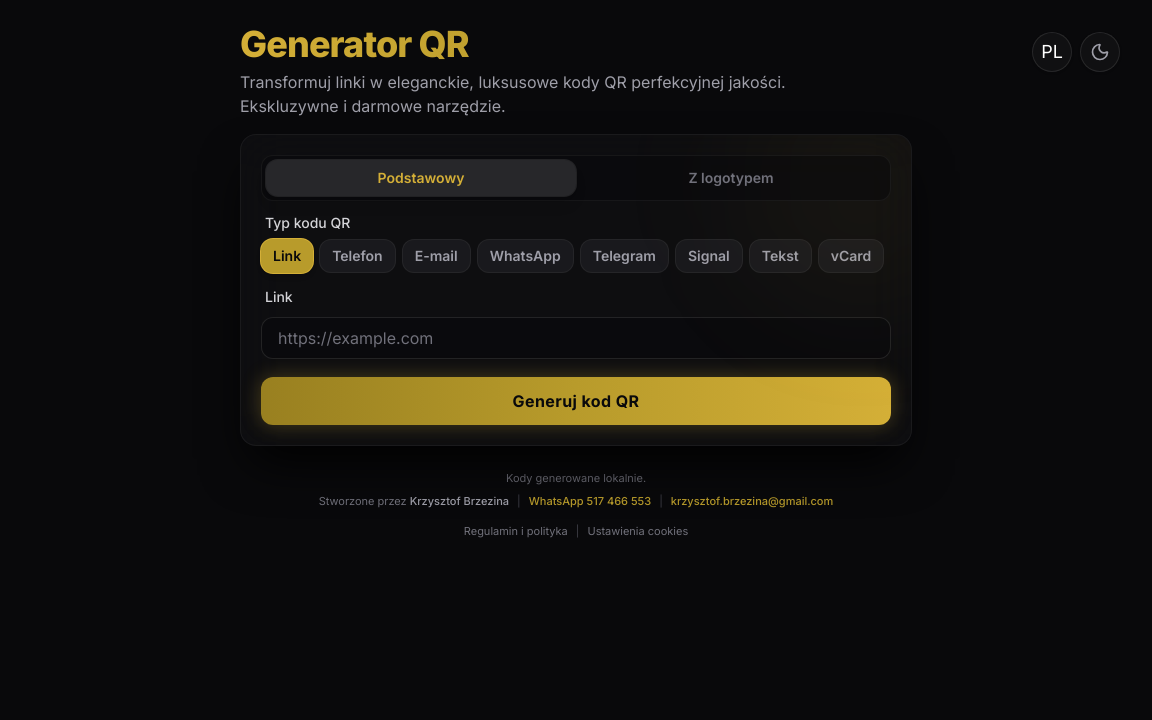
Home komponent › przelacza na typ vCard i wyswietla formularz wizytowki
This screenshot has width=1152, height=720.
Click the button "vCard": point(851, 256) [818,239,884,273]
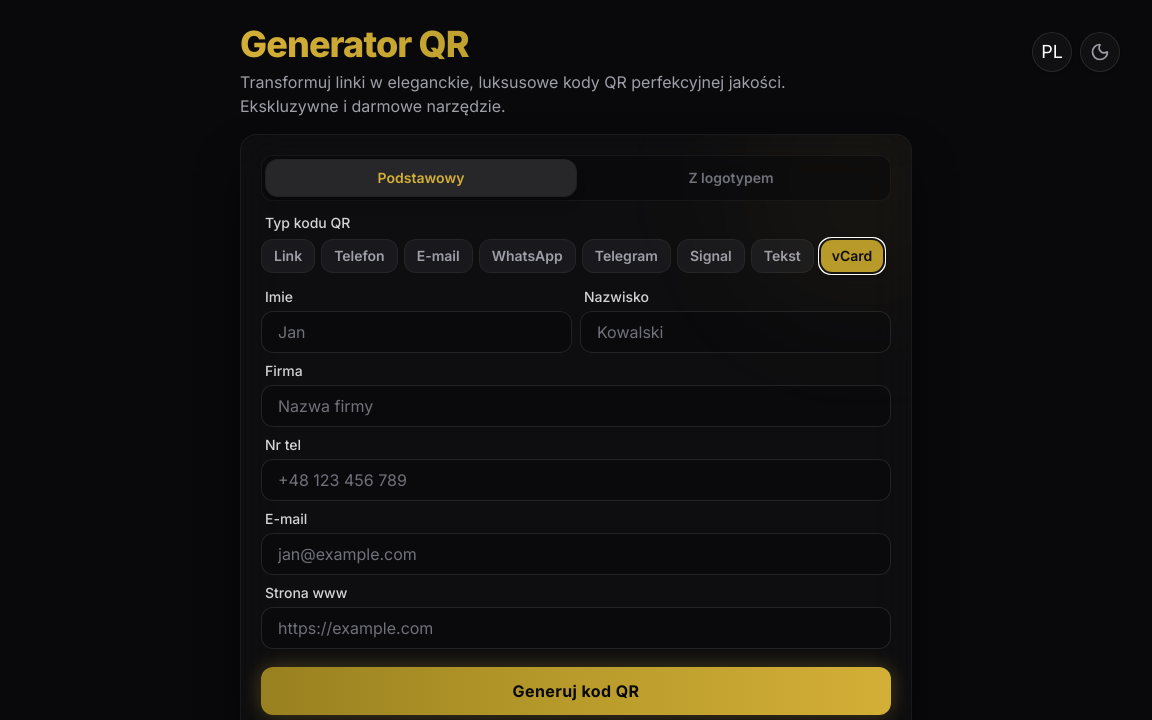
Expected: the field labelled "Imie" is shown, [261,311,572,353]
Expected: the field labelled "Nazwisko" is shown, [580,311,891,353]
Expected: the field labelled "Firma" is shown, [261,385,891,427]
